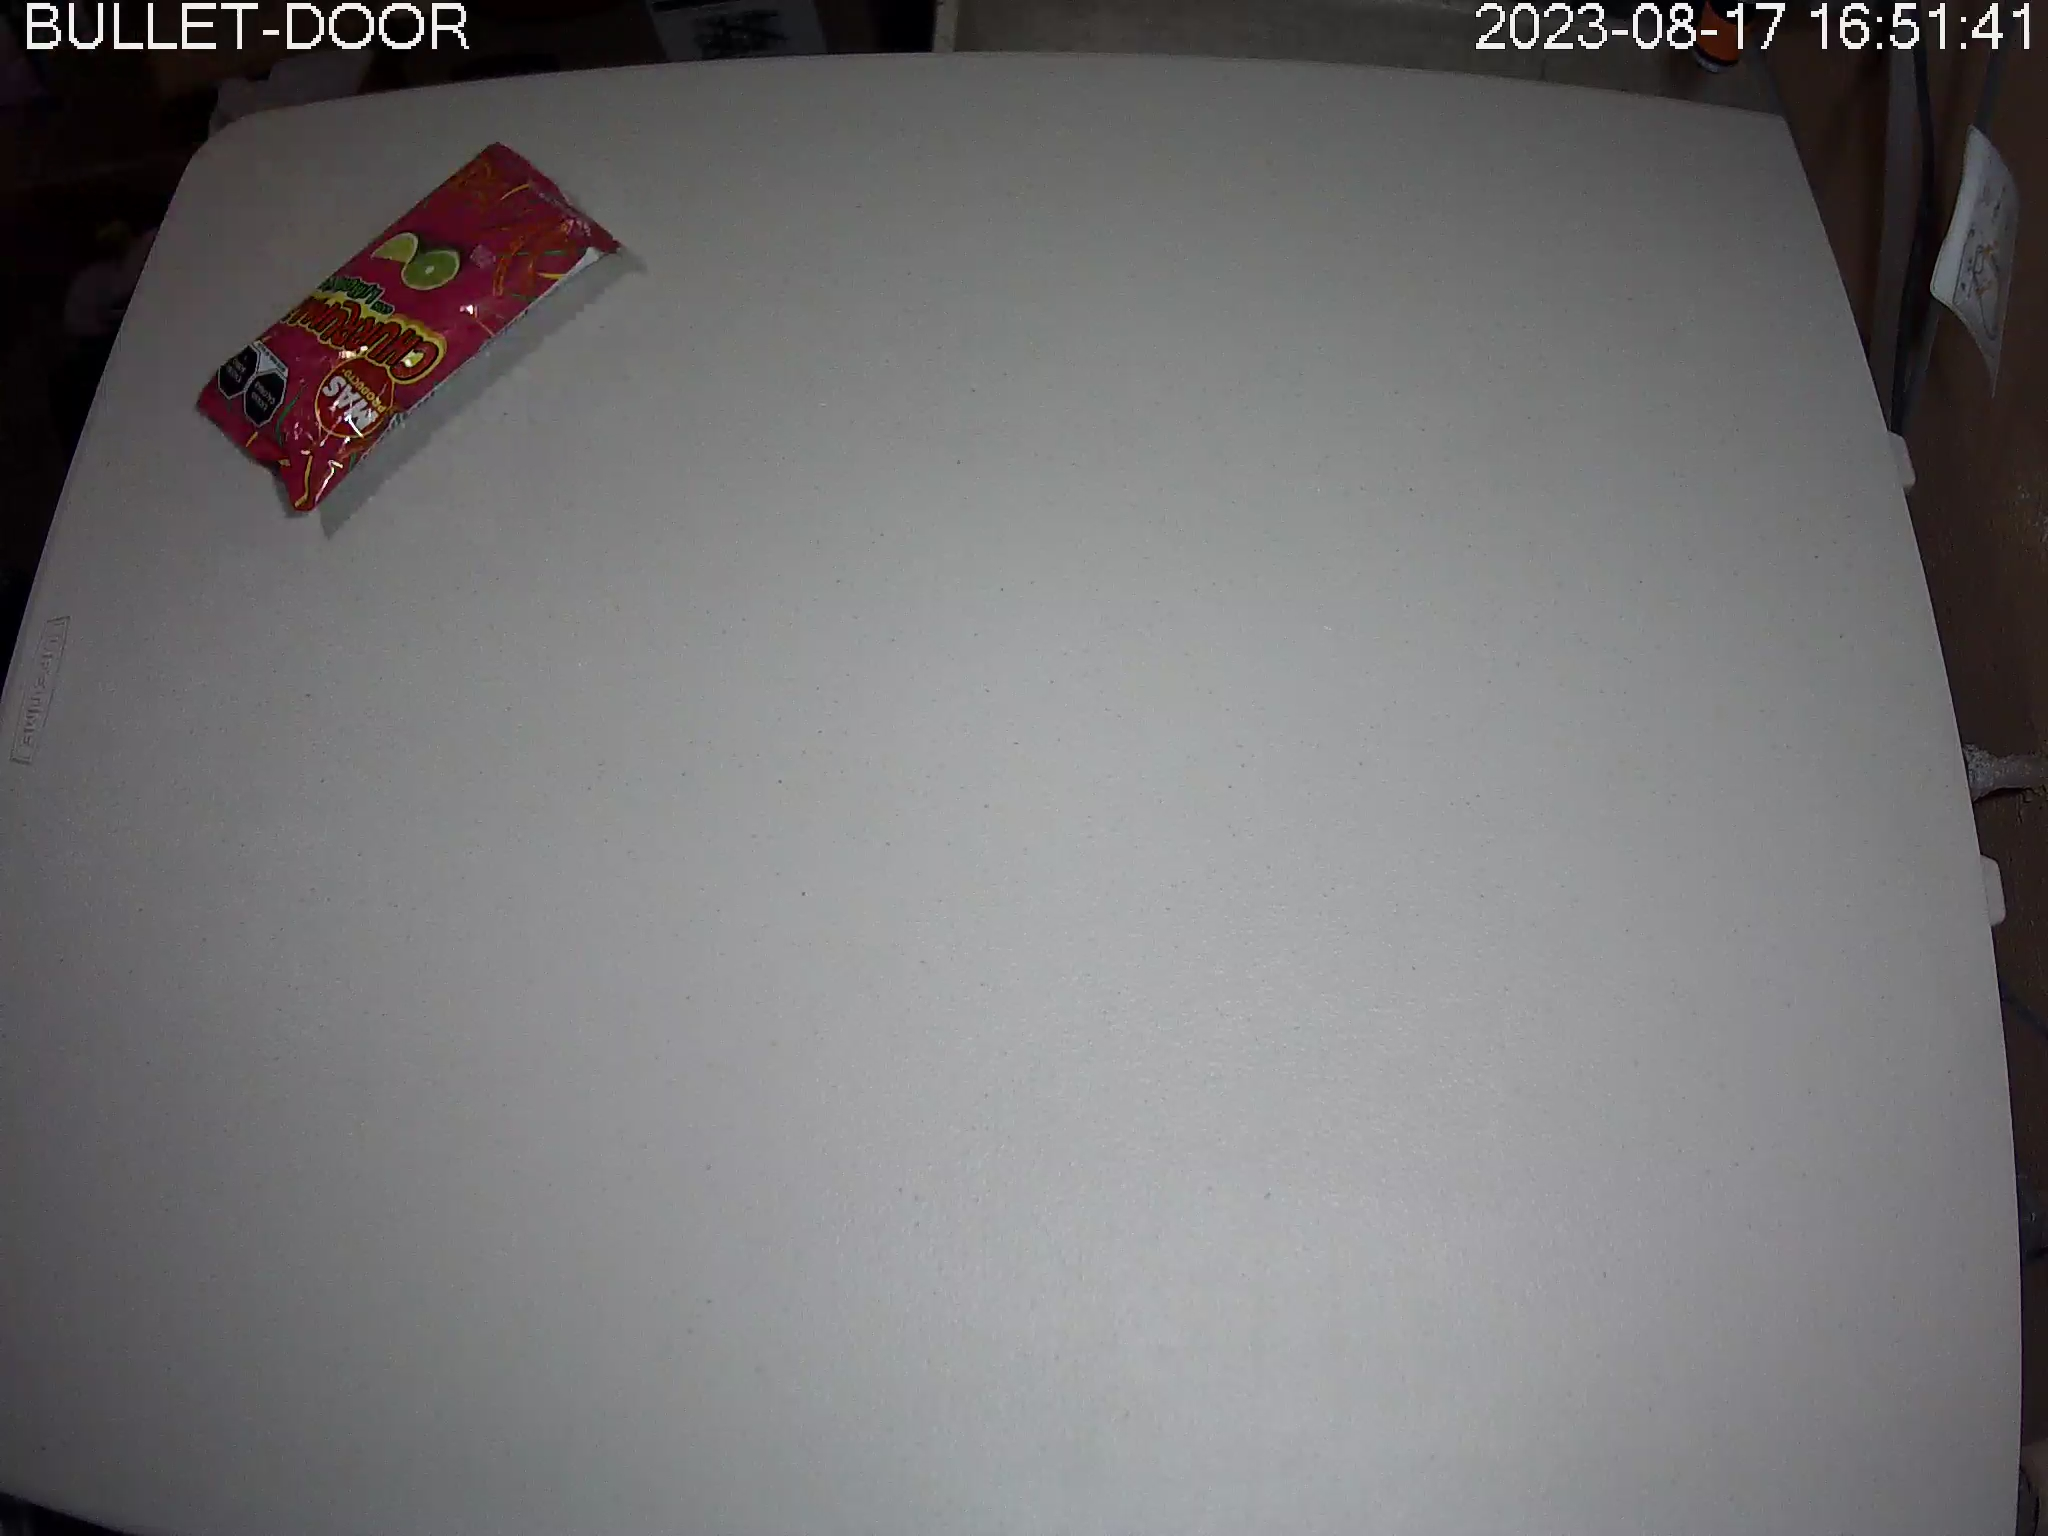Churrumais_70_F: (197, 140, 626, 511)
